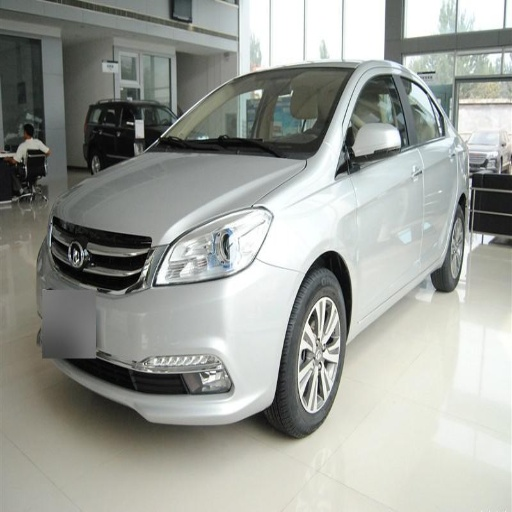front_bumper: (39, 218, 303, 423)
front_glass: (162, 68, 354, 158)
front_left_door: (343, 67, 422, 310)
